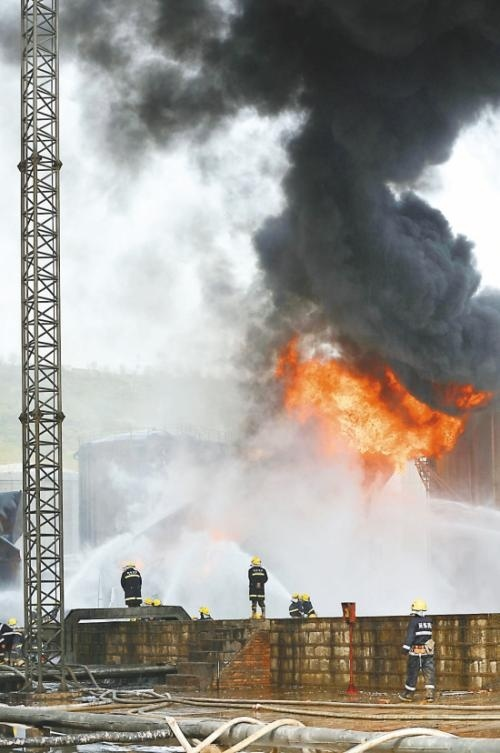fire: (273, 345, 487, 469)
